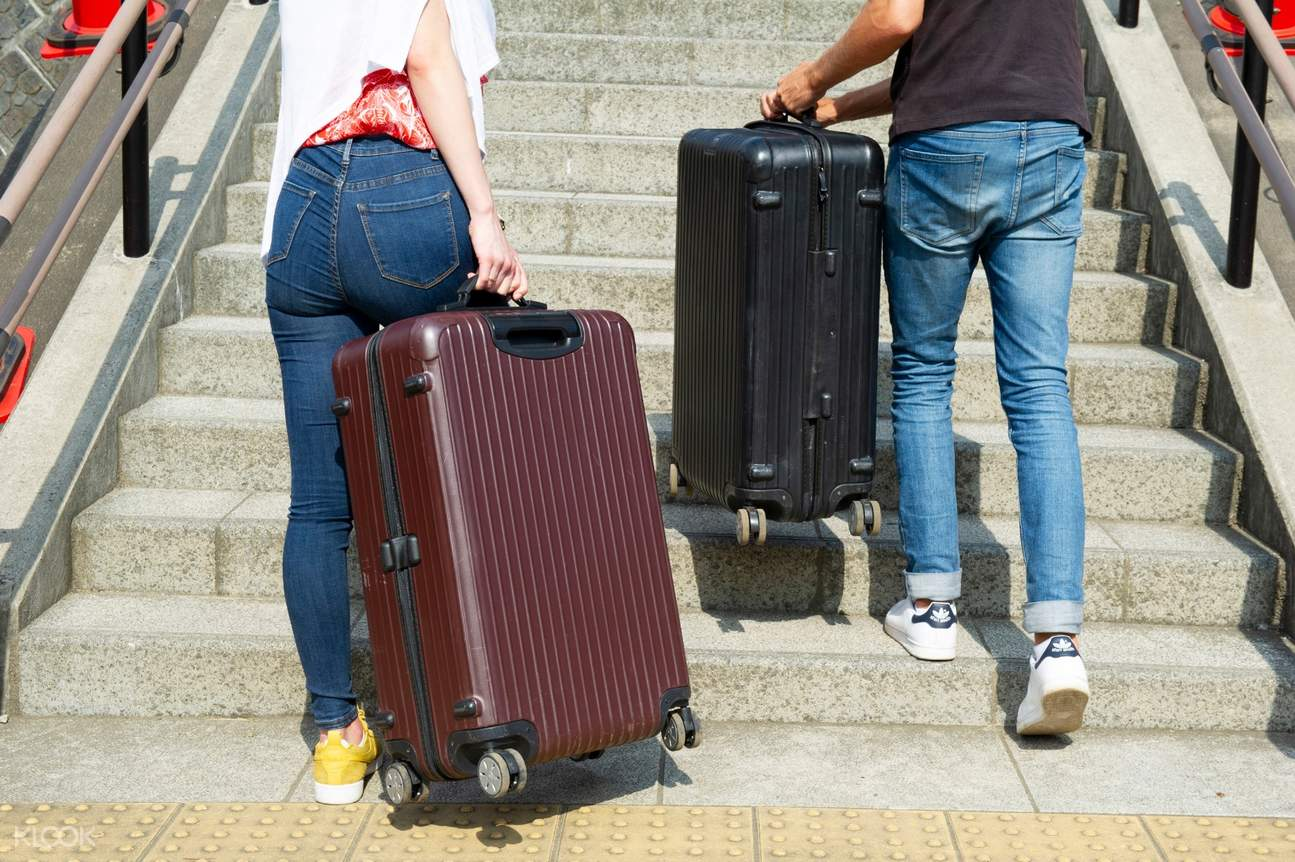luggage: (327, 303, 696, 809), (669, 123, 893, 552)
